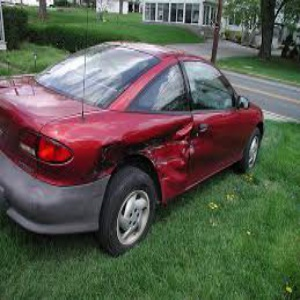door: (161, 126, 219, 192)
